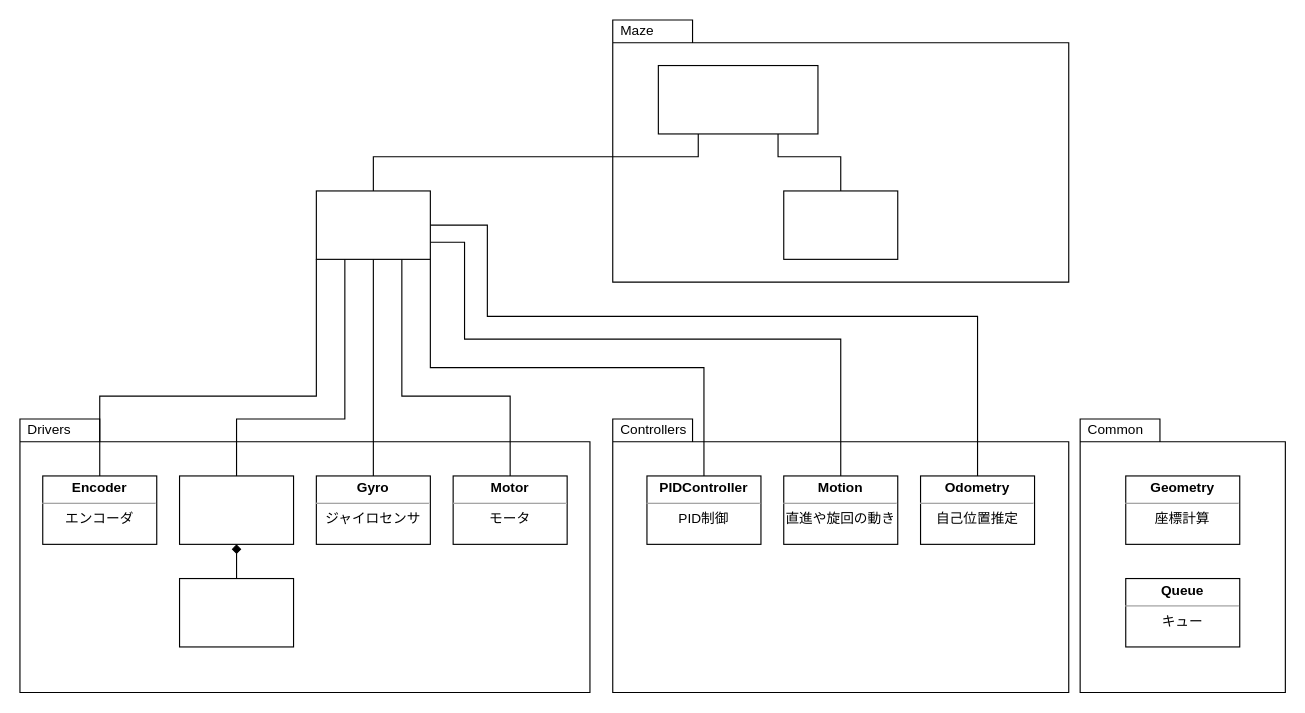
The diagram is 1305 pixels wide and 713 high, and some of its shapes have lost their labels. The centre of each missing label's shape, as x and y in pixels:
Agent 迷路探索エージェント: the point at 737,99
Maze 迷路の表現: the point at 840,224
Mouse マウス: the point at 372,224
Sensor 赤外線センサ: the point at 236,612
WallSensor 壁センサ: the point at 236,509
